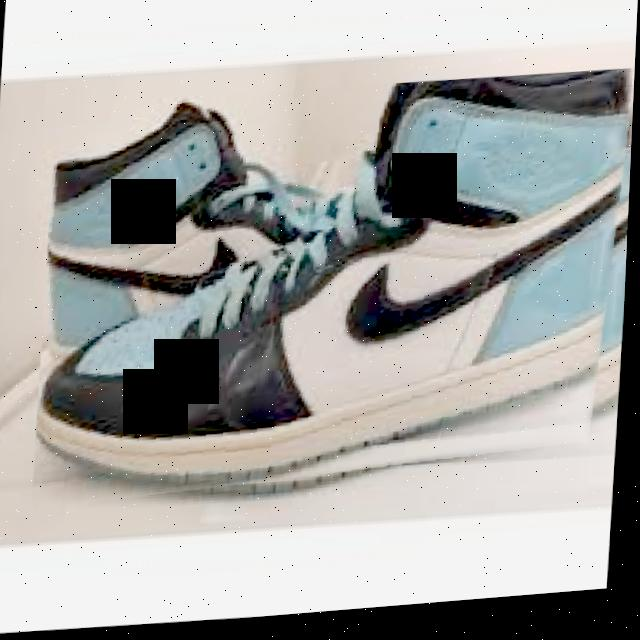shoe: (35, 68, 636, 523)
